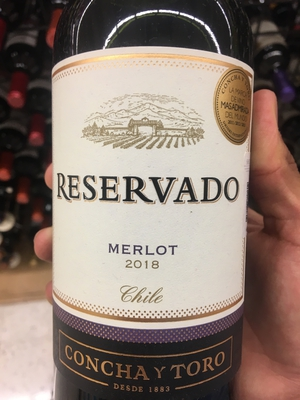reservado merlot: (53, 6, 254, 400)
